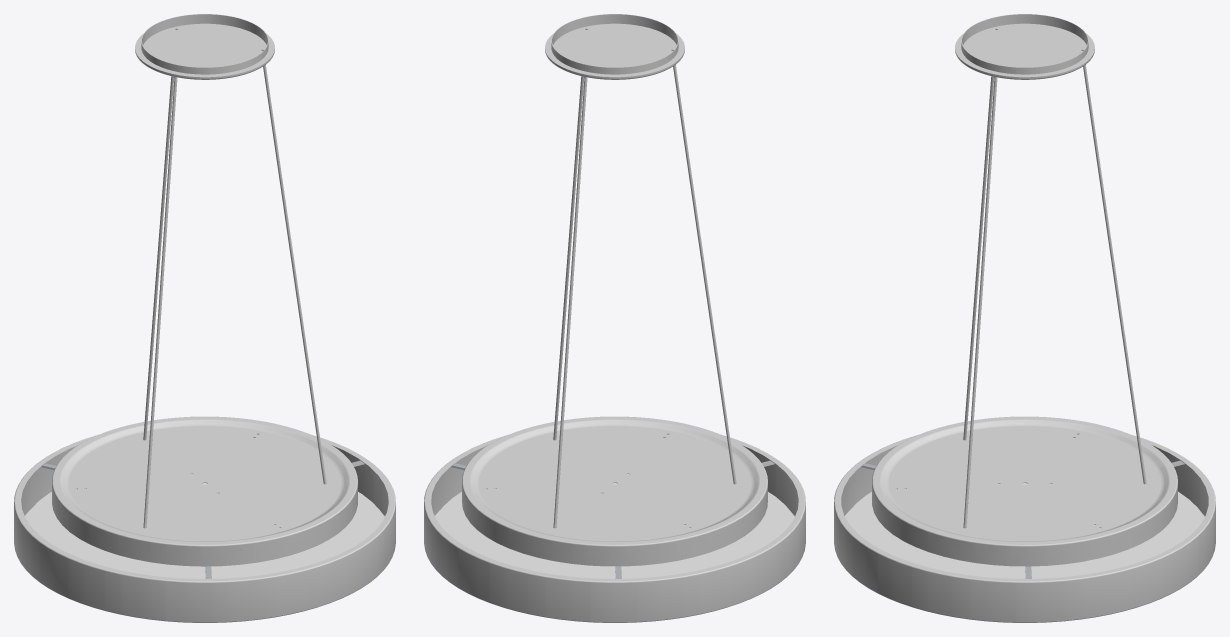
Rendered from RingPendente.glb.
The picture shows the model from 3 angles, left to right: view 1: azimuth 30°, elevation 25°; view 2: azimuth 150°, elevation 25°; view 3: azimuth 270°, elevation 25°; orthographic projection.
Visible parts, largest first — view 1: 3DGeom-2, 3DGeom-3, 3DGeom-12, 3DGeom-10, 3DGeom-13; view 2: 3DGeom-2, 3DGeom-3, 3DGeom-12, 3DGeom-10, 3DGeom-13; view 3: 3DGeom-2, 3DGeom-3, 3DGeom-12, 3DGeom-10, 3DGeom-13.
Part boxes in pixels (x1,y1,x2,y2): 3DGeom-2: [52, 416, 357, 566]; 3DGeom-3: [14, 435, 395, 622]; 3DGeom-12: [135, 14, 274, 79]; 3DGeom-10: [25, 474, 384, 578]; 3DGeom-13: [143, 29, 326, 528]; 3DGeom-2: [462, 416, 767, 566]; 3DGeom-3: [424, 435, 805, 622]; 3DGeom-12: [545, 14, 684, 79]; 3DGeom-10: [435, 474, 794, 578]; 3DGeom-13: [553, 29, 736, 528]; 3DGeom-2: [872, 416, 1177, 566]; 3DGeom-3: [834, 435, 1215, 622]; 3DGeom-12: [955, 14, 1094, 79]; 3DGeom-10: [845, 483, 1204, 578]; 3DGeom-13: [963, 29, 1146, 528].
Bounding box in the file's own units: 0.5997 × 0.8698 × 0.5999.
3 materials, 1 textured.
